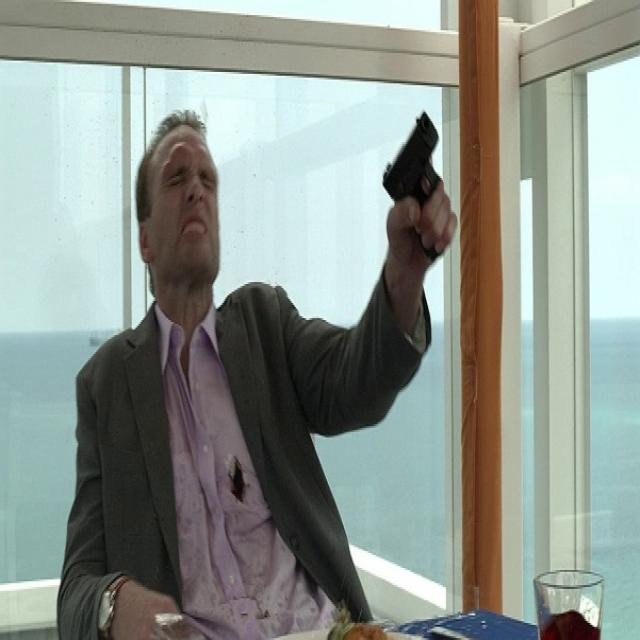weapons: (378, 97, 462, 290)
